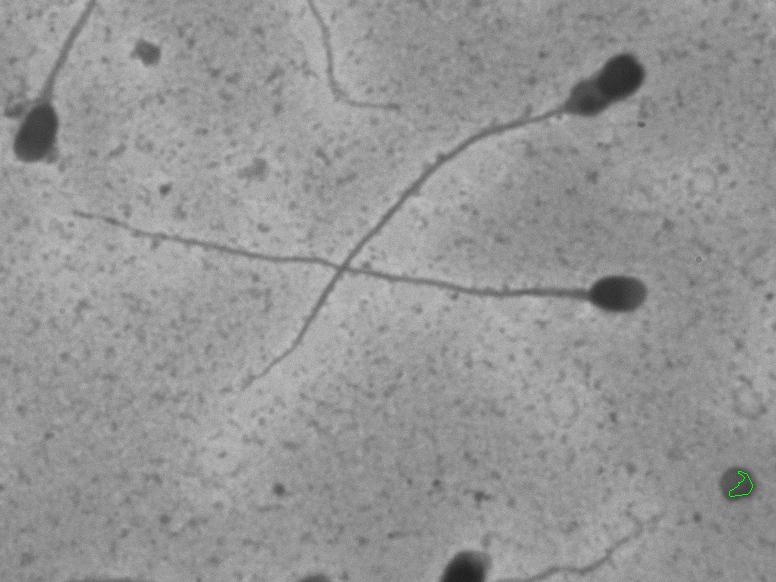Abnormal: (224, 31, 663, 409)
Normal: (63, 184, 713, 349)
